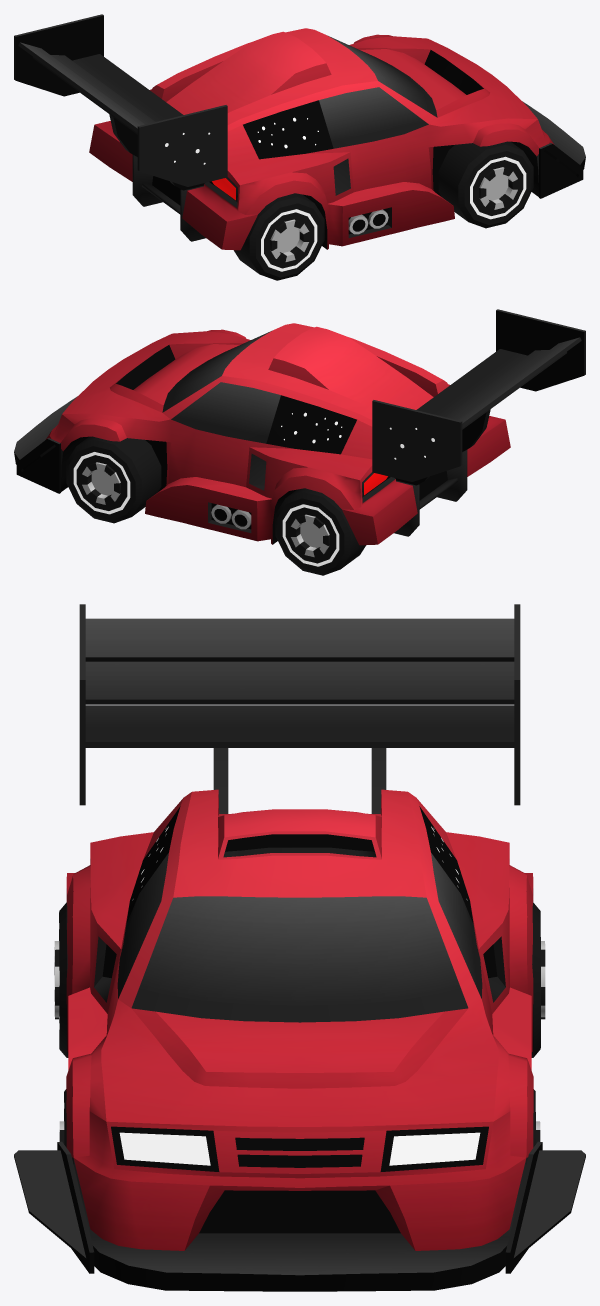
The model's file is RaceCar_068.glb.
The picture shows the model from 3 angles, top to bottom: view 1: azimuth 30°, elevation 25°; view 2: azimuth 150°, elevation 25°; view 3: azimuth 270°, elevation 25°; orthographic projection. The views are drawn at different scales.
Visible parts, largest first — view 1: RaceCar_068, wheel_1_RaceCar_068_Wheel_1R, wheel_3_RaceCar_068_Wheel_2R; view 2: RaceCar_068, wheel_0_RaceCar_068_Wheel_1L, wheel_2_RaceCar_068_Wheel_2L; view 3: RaceCar_068, wheel_3_RaceCar_068_Wheel_2R, wheel_2_RaceCar_068_Wheel_2L.
Boxes of the visible parts, left/top/right/bottom form: RaceCar_068: left=14, top=14, right=585, bottom=250; wheel_1_RaceCar_068_Wheel_1R: left=438, top=141, right=533, bottom=228; wheel_3_RaceCar_068_Wheel_2R: left=234, top=193, right=324, bottom=280; RaceCar_068: left=14, top=309, right=585, bottom=545; wheel_0_RaceCar_068_Wheel_1L: left=66, top=436, right=161, bottom=523; wheel_2_RaceCar_068_Wheel_2L: left=275, top=488, right=365, bottom=575; RaceCar_068: left=14, top=604, right=585, bottom=1291; wheel_3_RaceCar_068_Wheel_2R: left=54, top=902, right=68, bottom=1057; wheel_2_RaceCar_068_Wheel_2L: left=531, top=902, right=545, bottom=1057.
Size of the model in its own units: 3.88 by 1.44 by 2.32.
2 materials, 2 textured.
